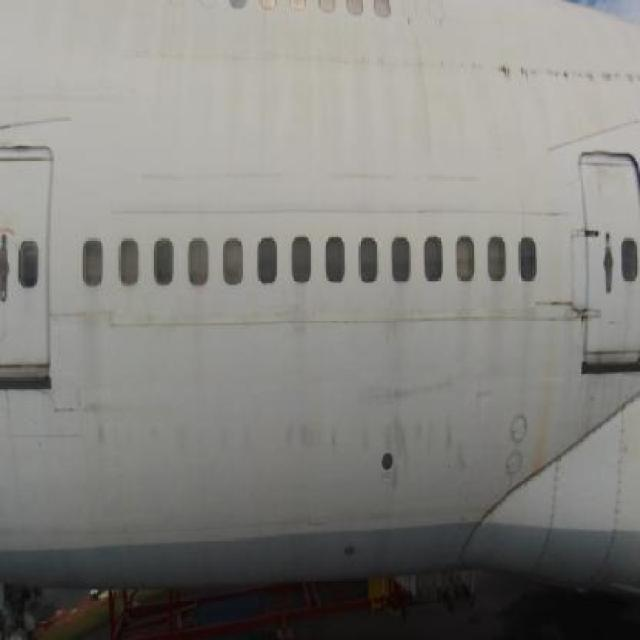Rust: (525, 358, 563, 478)
Scartch: (435, 49, 640, 94), (549, 117, 640, 160), (1, 106, 79, 140), (540, 288, 598, 332)
